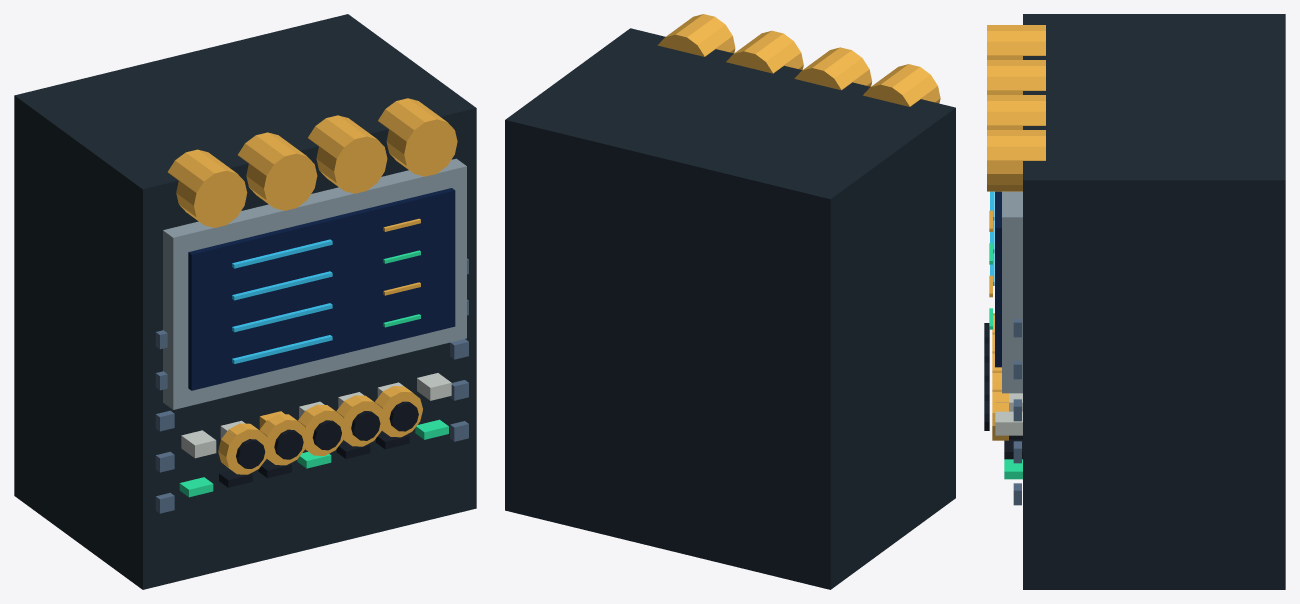
Rendered from 34_L84_PrecisionGyroscopeIMU.fbx.
The picture shows the model from 3 angles, left to right: view 1: azimuth 30°, elevation 25°; view 2: azimuth 150°, elevation 25°; view 3: azimuth 270°, elevation 25°; orthographic projection. The views are drawn at different scales.
Visible parts, largest first — view 1: L84_PrecisionGyroscopeIMU, L84_PrecisionGyroscopeIMU_Part_0009, L84_PrecisionGyroscopeIMU_Part_0011, L84_PrecisionGyroscopeIMU_Part_0017, L84_PrecisionGyroscopeIMU_Part_0015, L84_PrecisionGyroscopeIMU_Part_0013, L84_PrecisionGyroscopeIMU_Part_0018, L84_PrecisionGyroscopeIMU_Part_0012, L84_PrecisionGyroscopeIMU_Part_0014, L84_PrecisionGyroscopeIMU_Part_0010, L84_PrecisionGyroscopeIMU_Part_0016; view 2: L84_PrecisionGyroscopeIMU; view 3: L84_PrecisionGyroscopeIMU, L84_PrecisionGyroscopeIMU_Part_0017.
Boxes of the visible parts, box(x1,y1,x2,y2) form: L84_PrecisionGyroscopeIMU: box(14, 14, 476, 589); L84_PrecisionGyroscopeIMU_Part_0009: box(218, 423, 267, 474); L84_PrecisionGyroscopeIMU_Part_0011: box(259, 414, 307, 465); L84_PrecisionGyroscopeIMU_Part_0017: box(375, 386, 422, 437); L84_PrecisionGyroscopeIMU_Part_0015: box(336, 395, 384, 446); L84_PrecisionGyroscopeIMU_Part_0013: box(298, 404, 345, 455); L84_PrecisionGyroscopeIMU_Part_0018: box(389, 401, 418, 431); L84_PrecisionGyroscopeIMU_Part_0012: box(274, 429, 303, 459); L84_PrecisionGyroscopeIMU_Part_0014: box(312, 420, 341, 450); L84_PrecisionGyroscopeIMU_Part_0010: box(236, 439, 265, 468); L84_PrecisionGyroscopeIMU_Part_0016: box(351, 411, 380, 440); L84_PrecisionGyroscopeIMU: box(505, 14, 955, 589); L84_PrecisionGyroscopeIMU: box(987, 14, 1285, 589); L84_PrecisionGyroscopeIMU_Part_0017: box(992, 389, 1008, 440).
Size of the model in its own units: 99.96 by 119 by 76.52.
